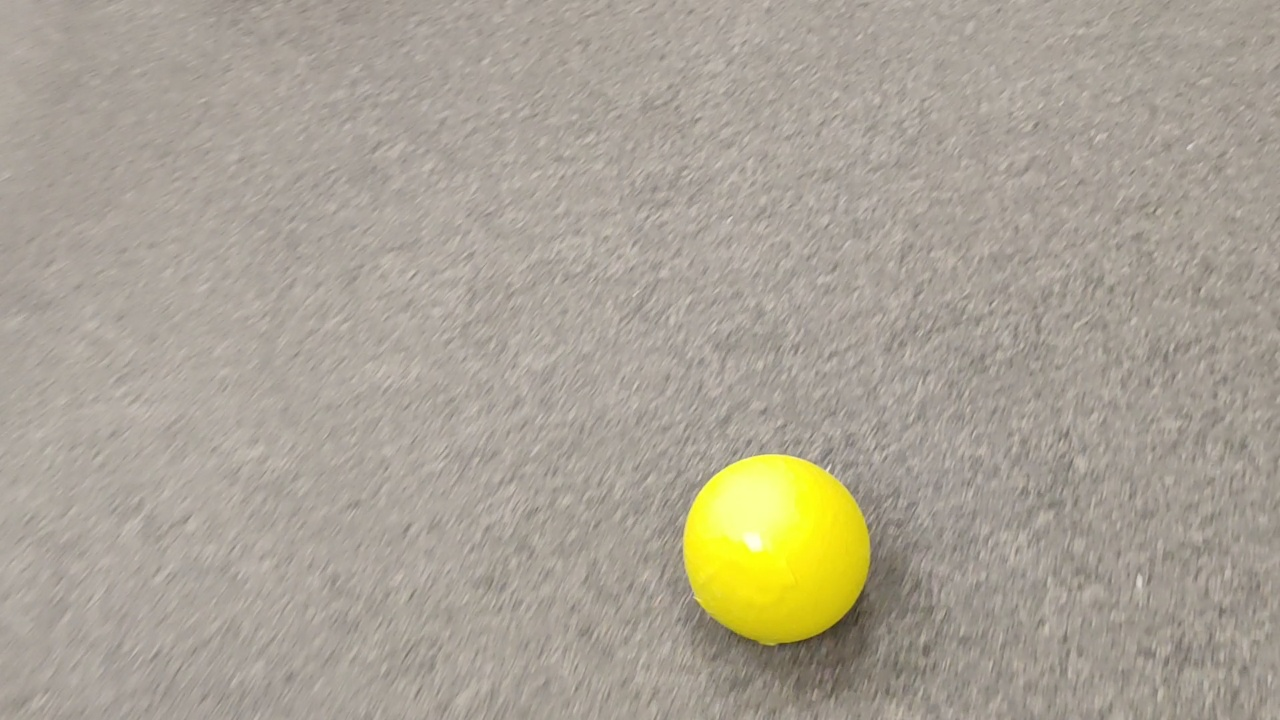Ball: (682, 456, 870, 645)
